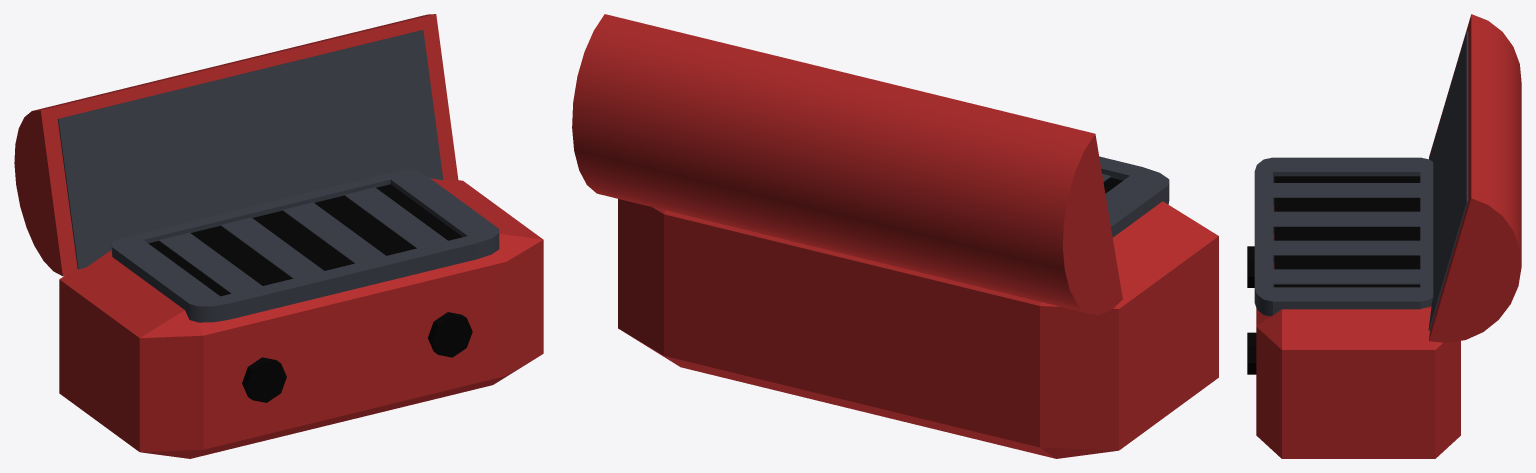
3 renders of one model, left to right at view 1: azimuth 30°, elevation 25°; view 2: azimuth 150°, elevation 25°; view 3: azimuth 270°, elevation 25°, orthographic. The views are drawn at different scales.
Parts seen in each view (by area): view 1: mergedBlocks; view 2: mergedBlocks; view 3: mergedBlocks.
Part boxes in pixels (box(x1,y1,x2,y2)): mergedBlocks: box(14, 14, 543, 458); mergedBlocks: box(572, 14, 1218, 458); mergedBlocks: box(1247, 14, 1521, 458).
Size of the model in its own units: 10 by 6.82 by 6.16.
